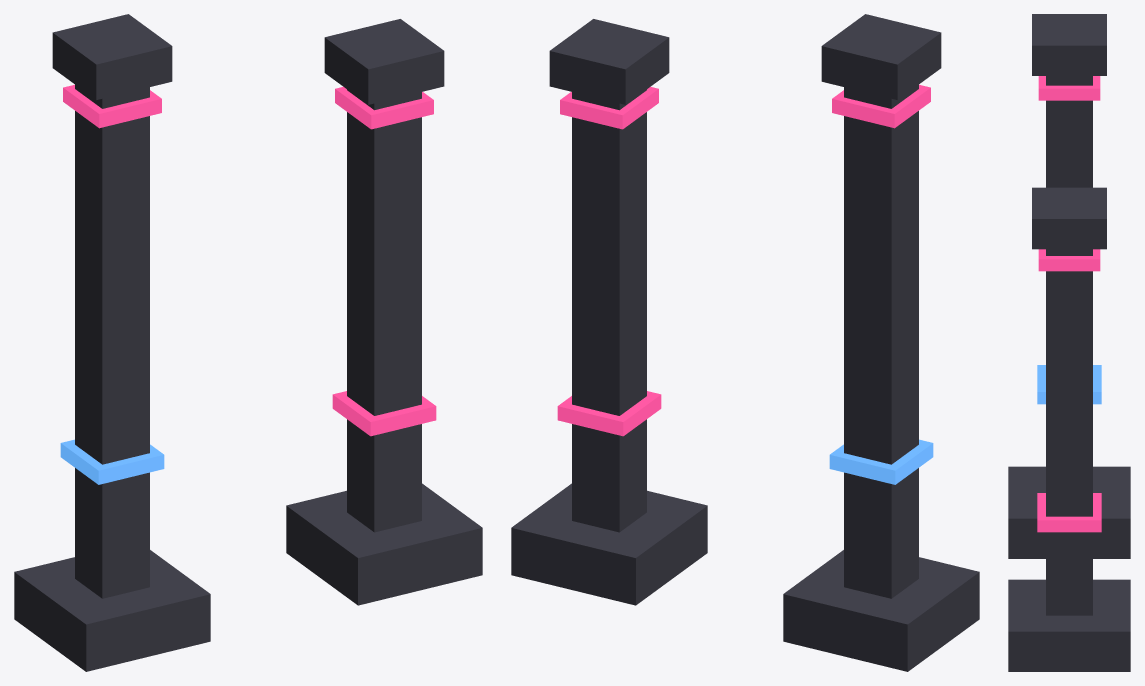
The model's file is runtime.glb.
3 renders of one model, left to right at view 1: azimuth 30°, elevation 25°; view 2: azimuth 150°, elevation 25°; view 3: azimuth 270°, elevation 25°, orthographic. The views are drawn at different scales.
Visible parts, largest first — view 1: neon_pylon_post_nocol, neon_pylon_band_red_noshadow_nocol, neon_pylon_band_blue_noshadow_nocol; view 2: neon_pylon_post_nocol, neon_pylon_band_red_noshadow_nocol, neon_pylon_band_blue_noshadow_nocol; view 3: neon_pylon_post_nocol, neon_pylon_band_red_noshadow_nocol, neon_pylon_band_blue_noshadow_nocol.
Boxes of the visible parts, x1,y1,x2,y2 form: neon_pylon_post_nocol: (14, 14, 482, 671); neon_pylon_band_red_noshadow_nocol: (63, 84, 436, 436); neon_pylon_band_blue_noshadow_nocol: (60, 439, 164, 484); neon_pylon_post_nocol: (511, 14, 979, 671); neon_pylon_band_red_noshadow_nocol: (557, 84, 930, 436); neon_pylon_band_blue_noshadow_nocol: (829, 439, 933, 484); neon_pylon_post_nocol: (1008, 14, 1130, 671); neon_pylon_band_red_noshadow_nocol: (1037, 76, 1101, 532); neon_pylon_band_blue_noshadow_nocol: (1037, 365, 1101, 404).
Size of the model in its own units: 3.5 by 4.98 by 1.1.
